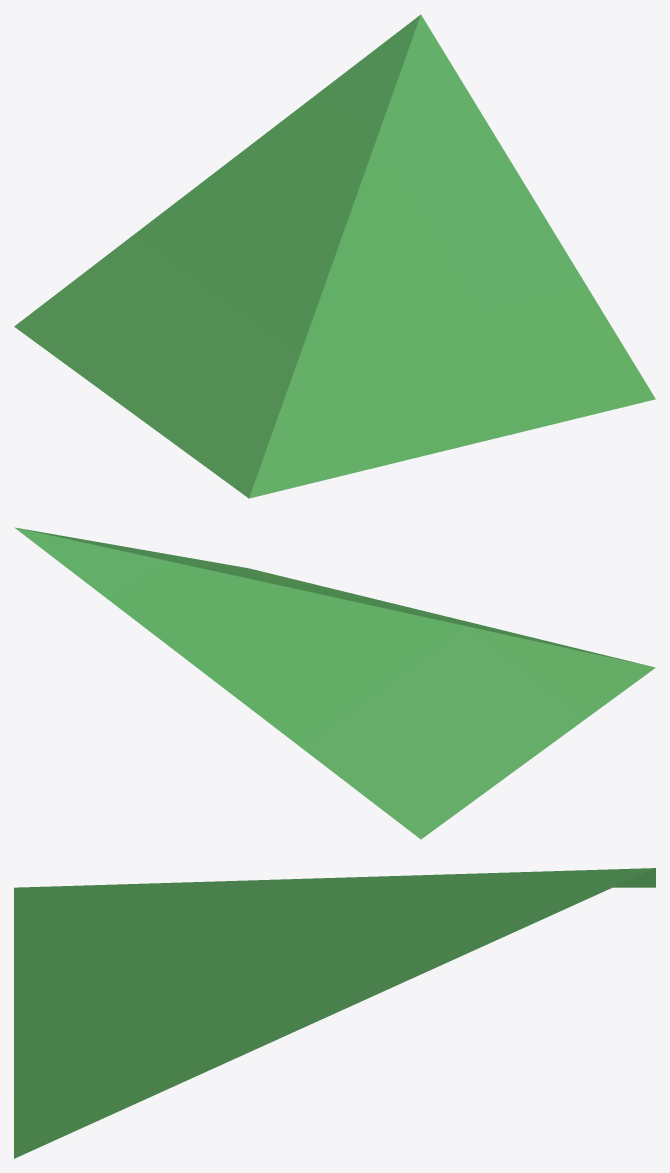
The model's file is floor_45 (2).glb.
3 renders of one model, top to bottom at view 1: azimuth 30°, elevation 25°; view 2: azimuth 150°, elevation 25°; view 3: azimuth 270°, elevation 25°, orthographic. The views are drawn at different scales.
Visible parts, largest first — view 1: Plane.001; view 2: Plane.001; view 3: Plane.001.
Boxes of the visible parts, x1=… form: Plane.001: x1=14, y1=14, x2=655, y2=498; Plane.001: x1=14, y1=527, x2=655, y2=839; Plane.001: x1=14, y1=868, x2=655, y2=1158.
Size of the model in its own units: 4 by 2 by 4.
Materials: 1 (1 with a texture image).
